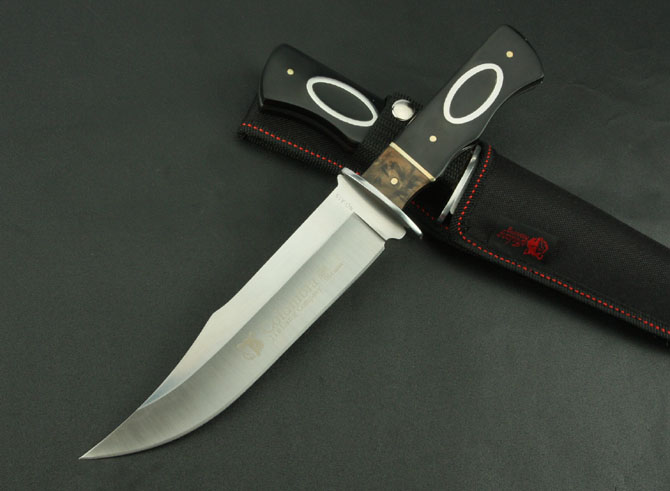knife: (72, 21, 554, 474)
